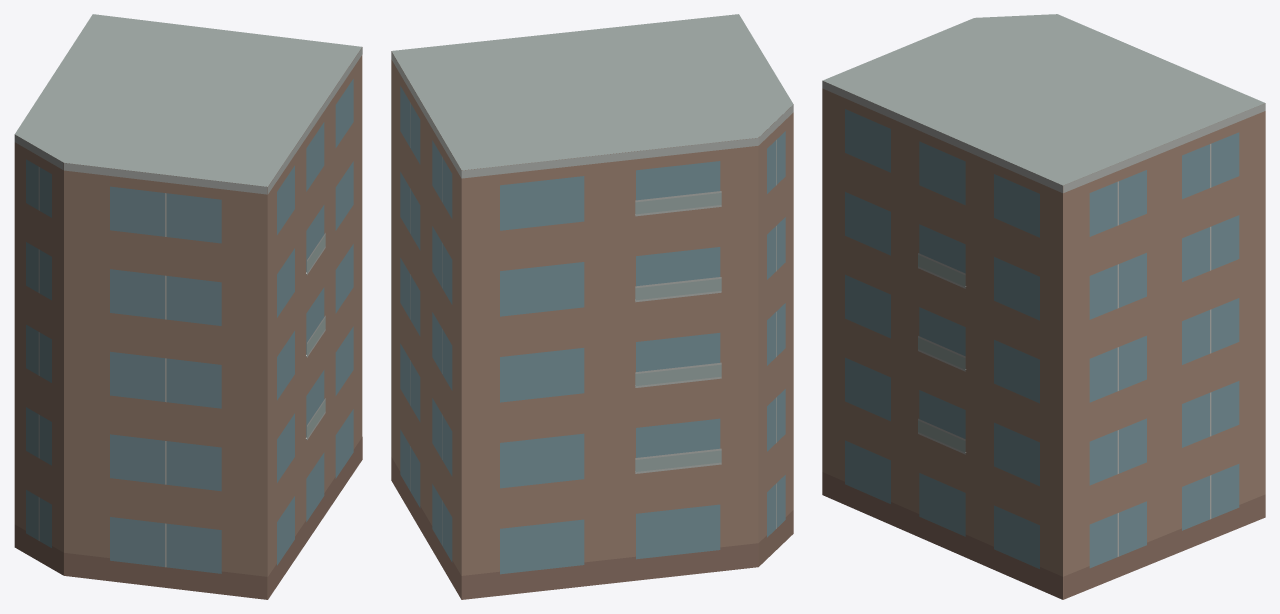
File: survey-upis-32691833.glb
3 views of the same model, side by side, from view 1: azimuth 30°, elevation 25°; view 2: azimuth 150°, elevation 25°; view 3: azimuth 270°, elevation 25° (orthographic). The views are drawn at different scales.
Parts seen in each view (by area): view 1: survey-upis-32691833.tmp; view 2: survey-upis-32691833.tmp; view 3: survey-upis-32691833.tmp.
Boxes of the visible parts, left/top/right/bottom form: survey-upis-32691833.tmp: left=14, top=14, right=362, bottom=599; survey-upis-32691833.tmp: left=391, top=14, right=793, bottom=599; survey-upis-32691833.tmp: left=822, top=14, right=1265, bottom=599.
Size of the model in its own units: 11.55 by 13 by 12.61.
